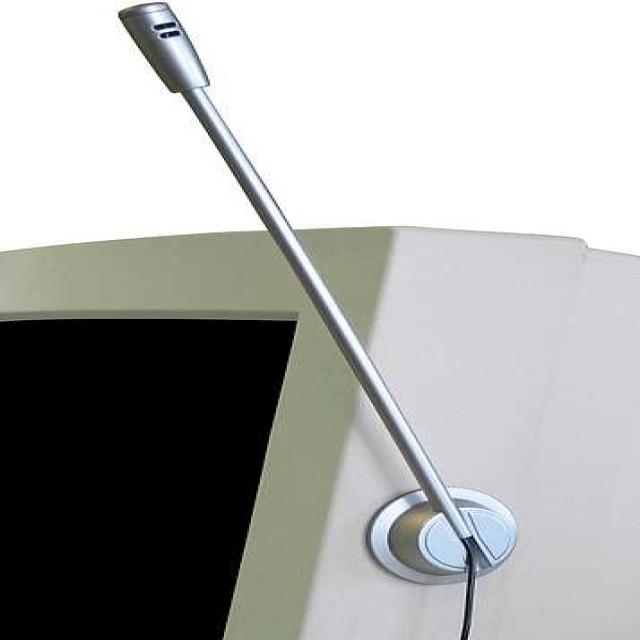microphone: (115, 0, 224, 109)
